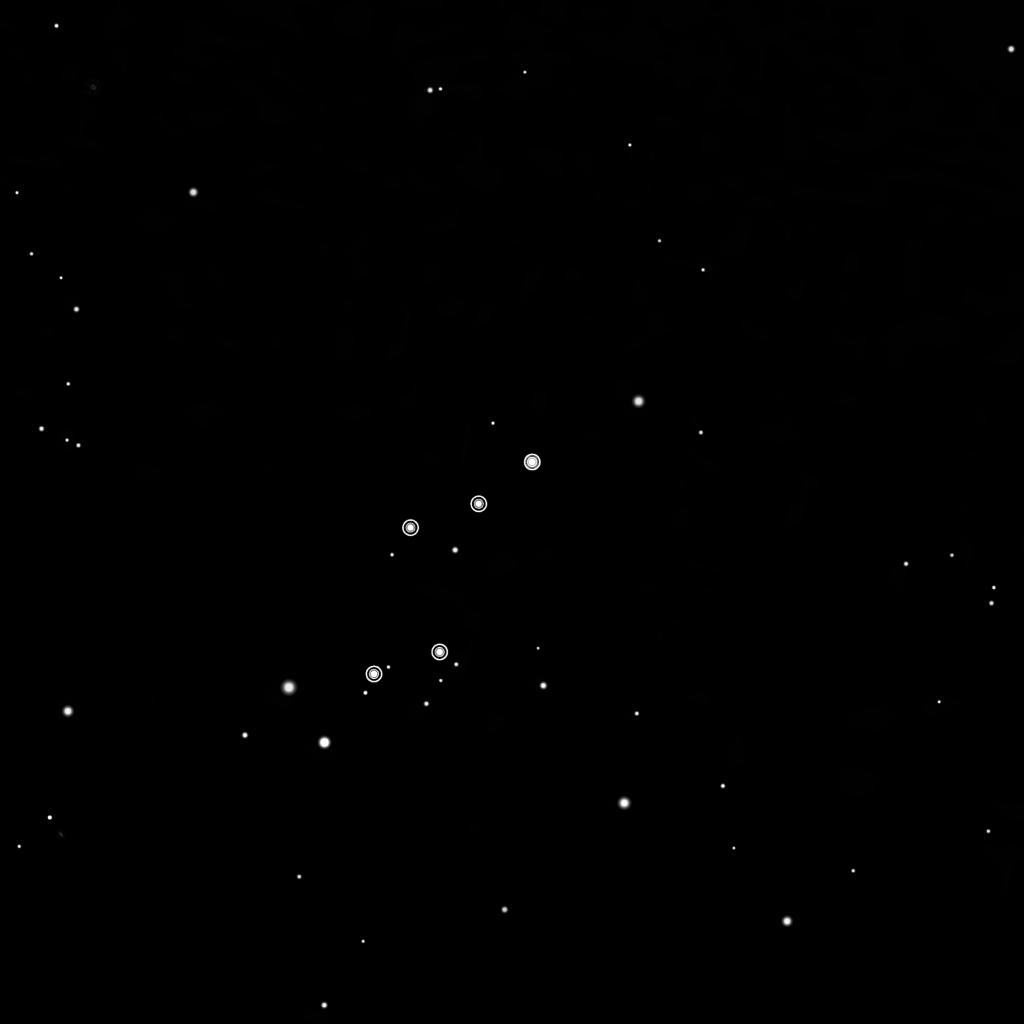lyra: (361, 445, 546, 692)
